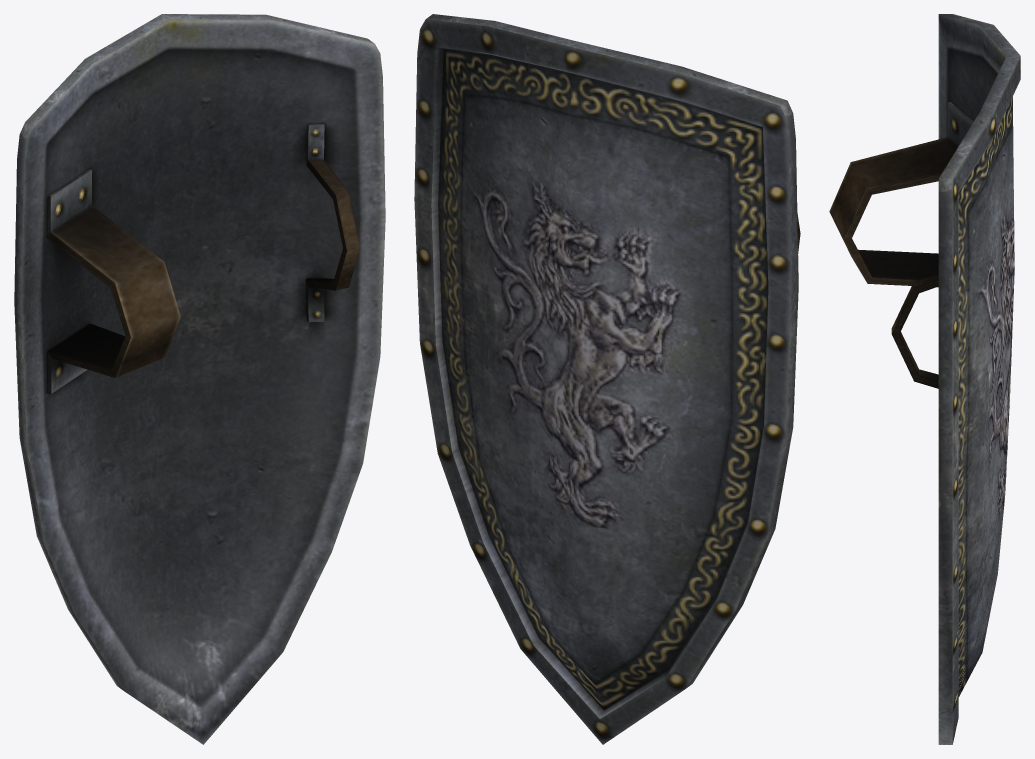
Rendered from Shield.FBX.
3 renders of one model, left to right at view 1: azimuth 30°, elevation 25°; view 2: azimuth 150°, elevation 25°; view 3: azimuth 270°, elevation 25°, orthographic. The views are drawn at different scales.
Visible parts, largest first — view 1: Shield2; view 2: Shield2; view 3: Shield2.
Part boxes in pixels (x1=…): Shield2: x1=14, y1=14, x2=385, y2=744; Shield2: x1=414, y1=14, x2=800, y2=744; Shield2: x1=829, y1=14, x2=1020, y2=744.
Bounding box in the file's own units: 0.6427 × 1.18 × 0.297.
